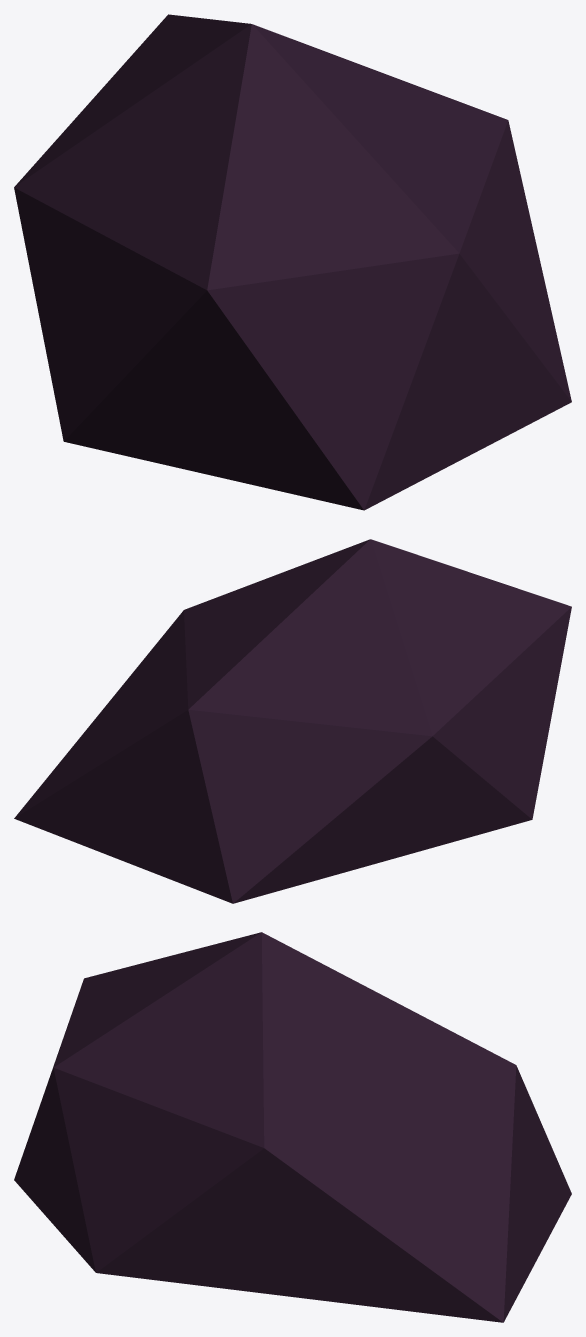
Rendered from stone.fbx.
3 views of the same model, one above another, from view 1: azimuth 30°, elevation 25°; view 2: azimuth 150°, elevation 25°; view 3: azimuth 270°, elevation 25° (orthographic). The views are drawn at different scales.
Visible parts, largest first — view 1: Icosphere; view 2: Icosphere; view 3: Icosphere.
Part boxes in pixels (<box>): Icosphere: <box>14,14,571,510</box>; Icosphere: <box>14,539,571,903</box>; Icosphere: <box>14,932,571,1322</box>.
Size of the model in its own units: 249 by 155 by 294.
